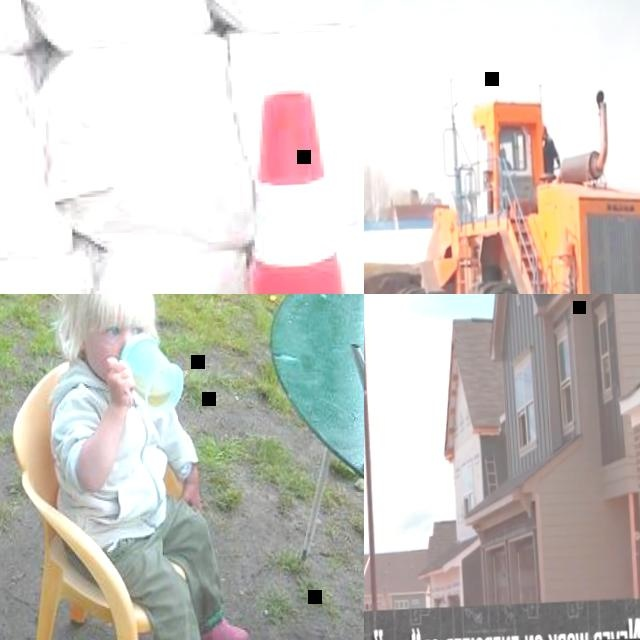NO-Hardhat: (59, 294, 157, 327), (543, 123, 548, 129)
NO-Mask: (83, 337, 133, 375)
NO-Safety Vest: (58, 372, 175, 540), (542, 137, 554, 171)
Person: (35, 294, 262, 640), (541, 121, 561, 173), (499, 147, 514, 170)
Safety Cone: (167, 83, 364, 294)
machinery: (364, 66, 640, 294)
